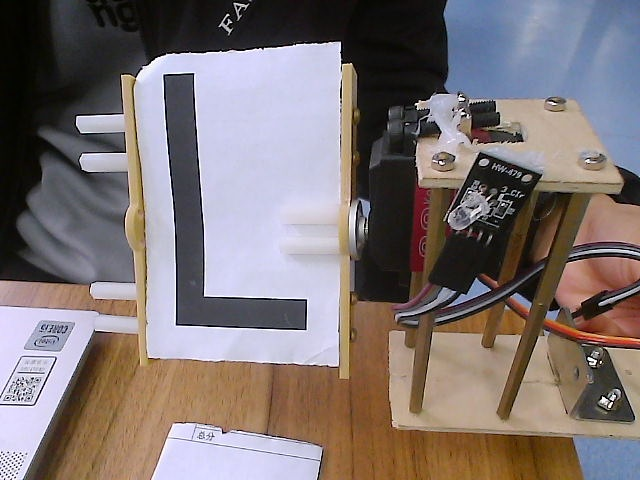L: (48, 32, 393, 393)
